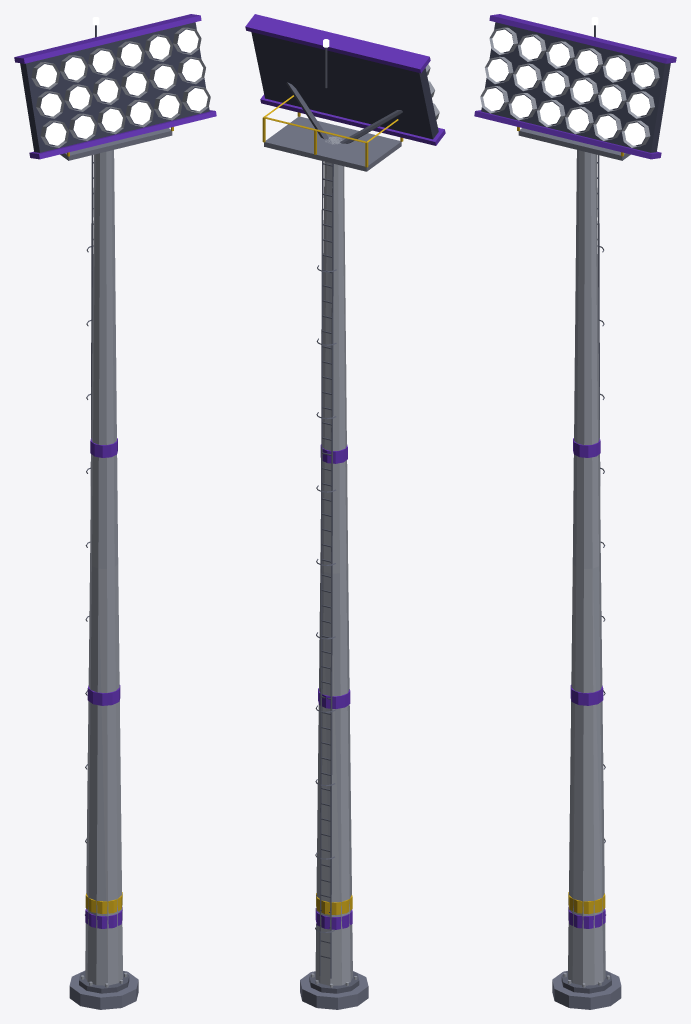
File: floodlight.glb
3 renders of one model, left to right at view 1: azimuth 30°, elevation 25°; view 2: azimuth 150°, elevation 25°; view 3: azimuth 330°, elevation 25°, orthographic.
Parts seen in each view (by area): view 1: floodlight; view 2: floodlight; view 3: floodlight.
Boxes of the visible parts, x1,y1,x2,y2 form: floodlight: [14, 14, 216, 1009]; floodlight: [245, 14, 445, 1009]; floodlight: [474, 14, 676, 1009].
Bounding box in the file's own units: 7.5 × 39.35 × 3.34.
